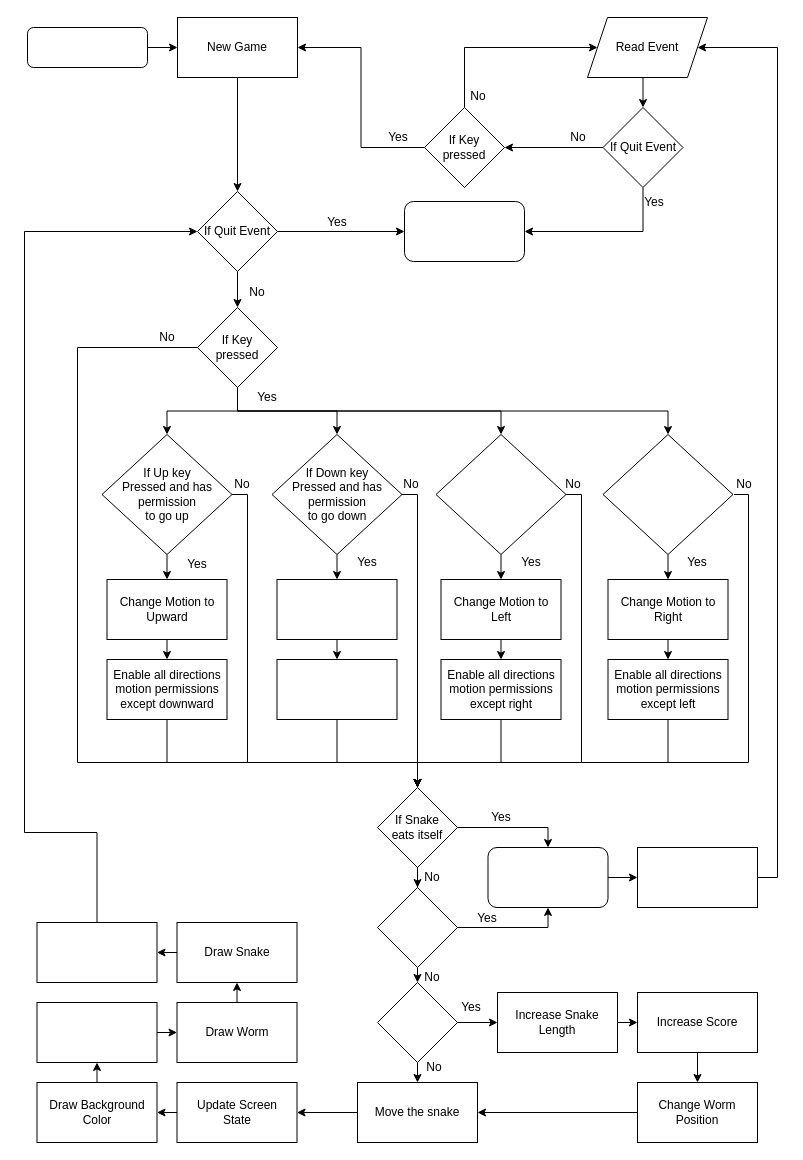
Image size: 803x1160. Some labels were removed from this diagram. The shapes that lost their labels are listed below. From the top down, each one's centre as x and y in pixels, then its label:
At [87,47]: "Initialize Window".
At [464,231]: "End Game".
At [500,494]: "If Left key Pressed and has permission to go left".
At [667,494]: "If Right key Pressed and has permission to go right".
At [336,609]: "Change Motion to Downward".
At [336,689]: "Enable all directions motion permissions except upward".
At [547,877]: "Game Over".
At [697,877]: "Print Game Over Text".
At [417,927]: "If snake hits border".
At [96,952]: "Draw Score".
At [96,1032]: "Draw Grids".
At [417,1022]: "If snake hits worm".
